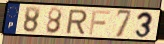3: (133, 10, 156, 40)
7: (115, 8, 132, 39)
8: (22, 6, 41, 34), (45, 7, 63, 35)
F: (88, 9, 112, 36)
R: (65, 9, 89, 35)
